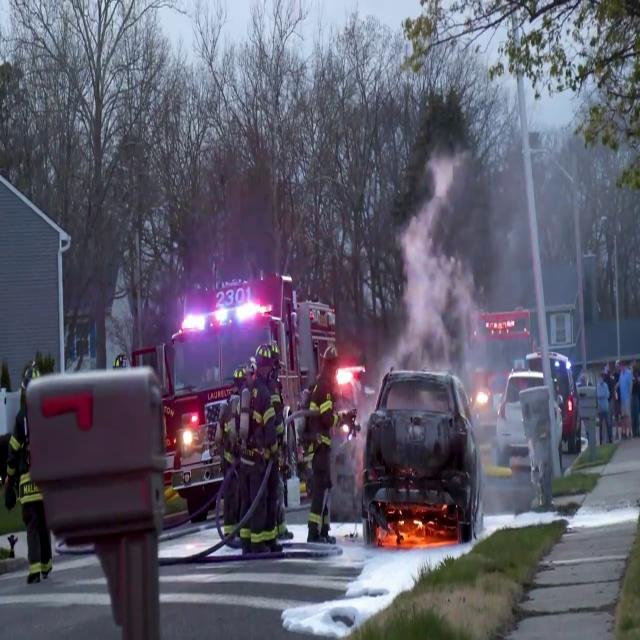Smoke: (381, 58, 619, 412)
